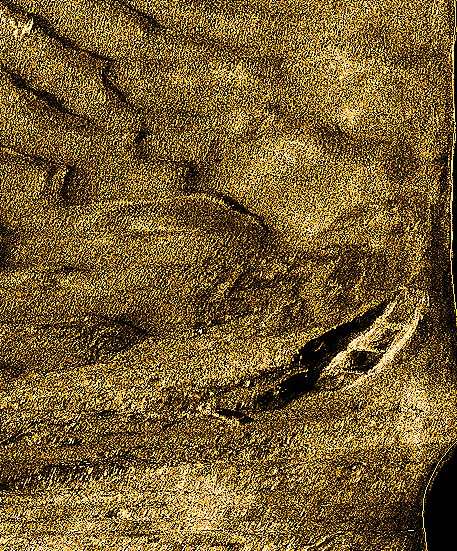ship: (315, 285, 431, 394)
